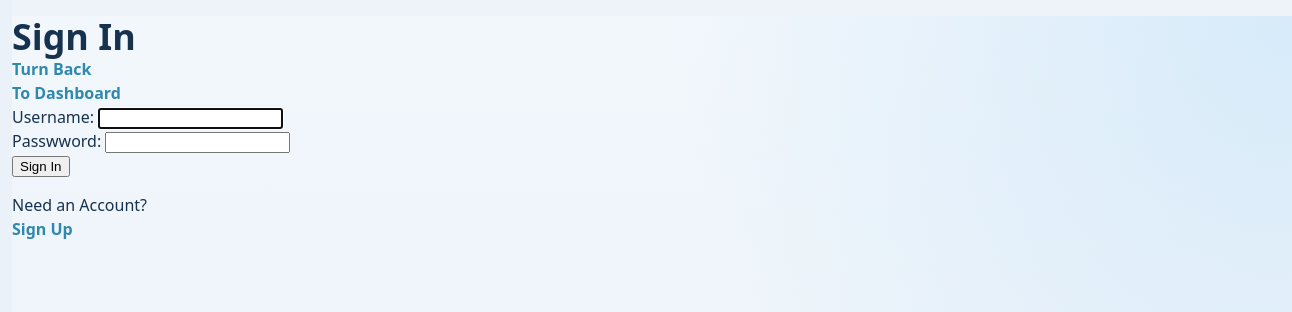
Login route › navigates to /app when To Dashboard is clicked
Step 1. Click the link "To Dashboard" → (67, 93), box [12,82,121,104]
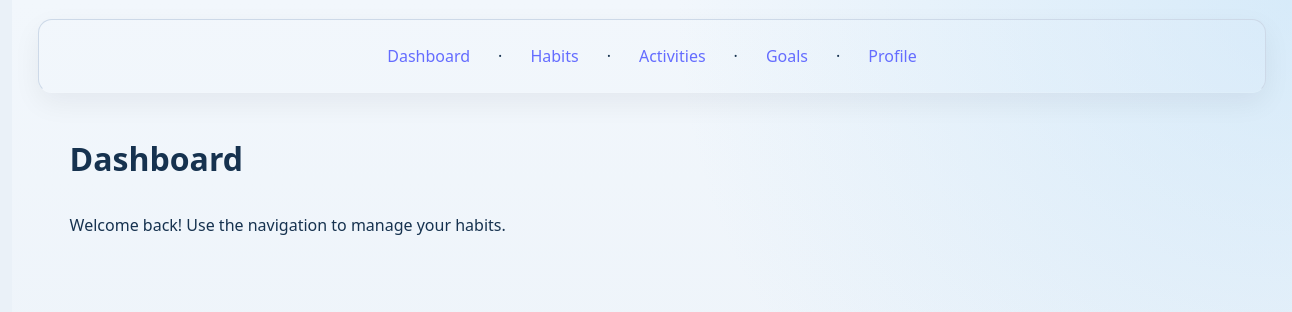
Expected: the heading "Dashboard" is shown, [70,137,243,180]
